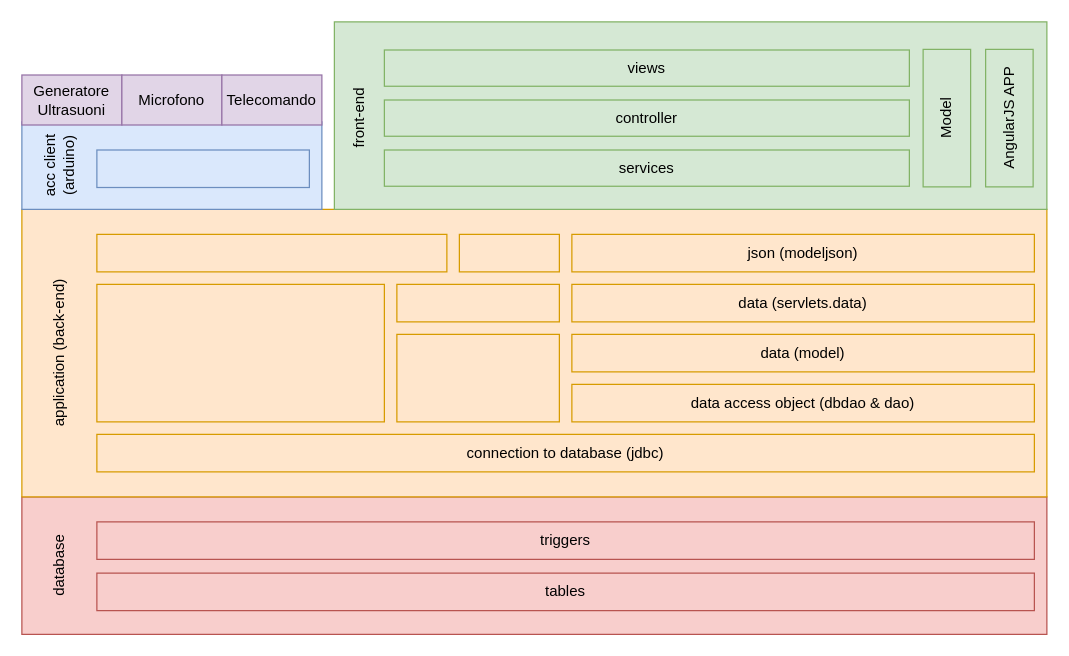
Some shapes in this 1069 by 656 pixel diagram are drawn without their labels. The shapes that lost their labels are listed below. From the top down, each one's centre as x and y in pixels, then its label:
(202,168): arduino (ino)
(271,252): arduino access control (acc)
(508,252): authentication (auth)
(477,302): action (servlets.action)
(240,352): SerialThread (acc)
(477,377): queries
